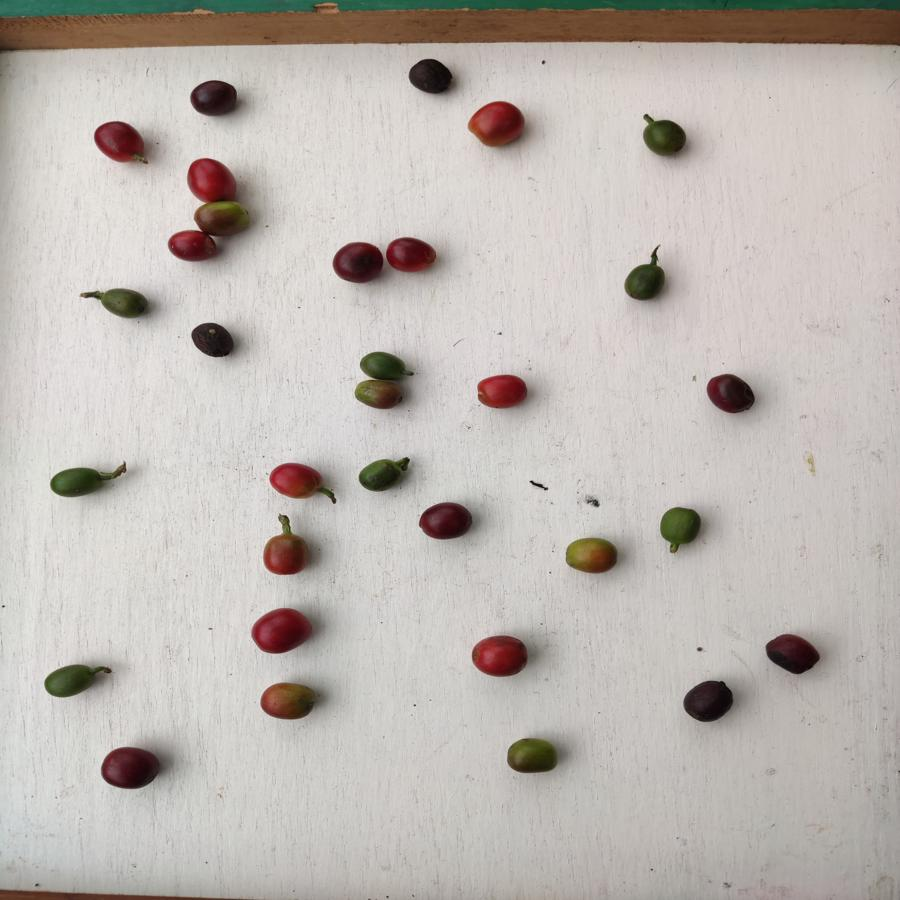Inmaduro: (40, 661, 98, 700), (639, 118, 690, 157), (50, 464, 106, 499), (95, 286, 152, 320), (357, 455, 405, 493), (659, 505, 705, 544), (622, 262, 667, 301), (359, 350, 408, 381)
Maduro: (248, 606, 314, 657), (467, 99, 527, 147), (469, 634, 529, 678), (266, 461, 329, 499), (184, 157, 240, 199), (386, 232, 439, 276), (261, 531, 311, 576), (475, 373, 528, 410)
Pinton: (506, 735, 560, 781), (259, 680, 317, 720), (192, 200, 253, 237), (563, 535, 619, 573), (353, 380, 406, 410)
Sobremaduro: (97, 745, 166, 790), (762, 631, 824, 677), (93, 117, 148, 164), (681, 680, 735, 725), (330, 239, 383, 283), (416, 501, 476, 539), (707, 371, 756, 415), (188, 320, 237, 363), (188, 78, 238, 118), (166, 230, 223, 265), (408, 57, 454, 95)
